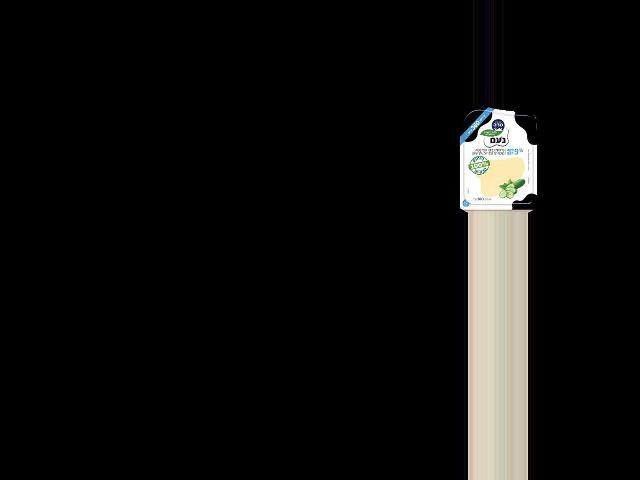cheese: (455, 109, 541, 213)
